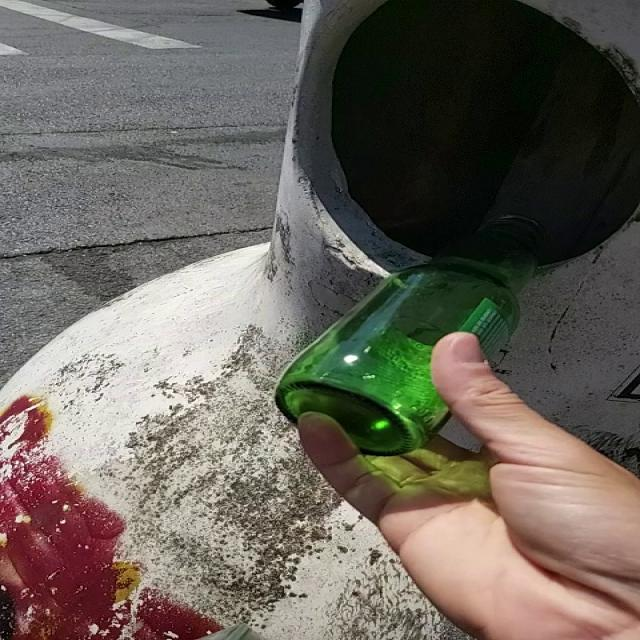glass: (275, 216, 543, 456)
